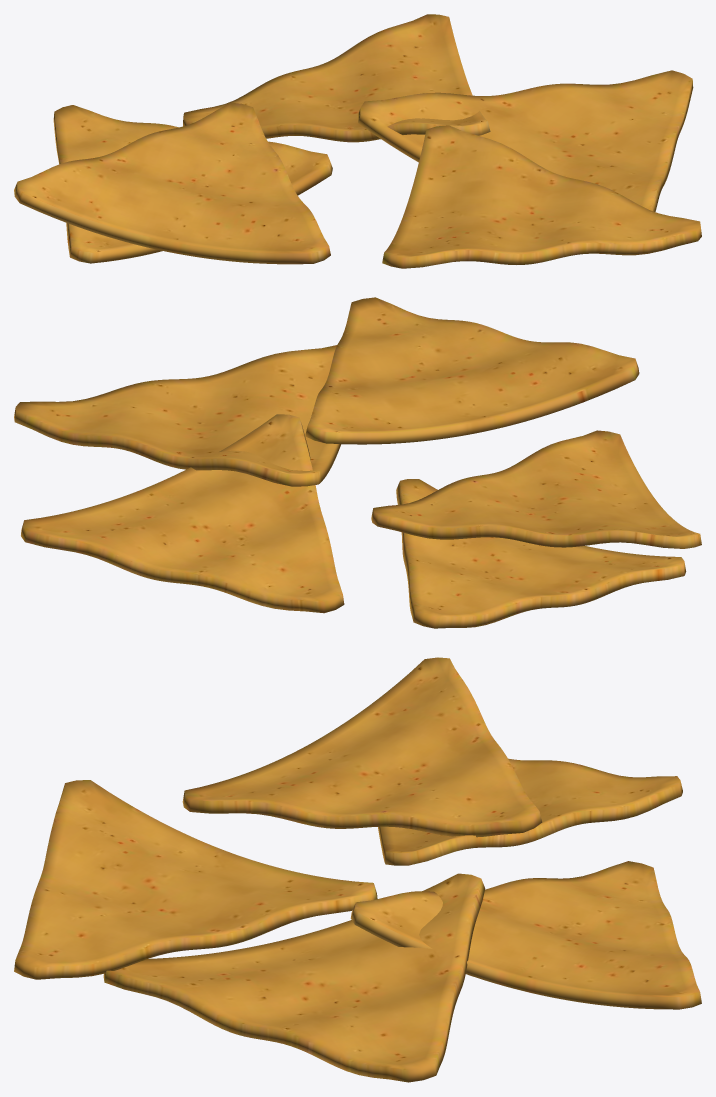
Rendered from crunch_nachos.glb.
3 renders of one model, top to bottom at view 1: azimuth 30°, elevation 25°; view 2: azimuth 150°, elevation 25°; view 3: azimuth 270°, elevation 25°, orthographic. The views are drawn at different scales.
Parts seen in each view (by area): view 1: EX_crunch_nachos_joined; view 2: EX_crunch_nachos_joined; view 3: EX_crunch_nachos_joined.
Part boxes in pixels (bbox=[...]): EX_crunch_nachos_joined: bbox=[14, 14, 701, 268]; EX_crunch_nachos_joined: bbox=[14, 297, 701, 628]; EX_crunch_nachos_joined: bbox=[14, 657, 701, 1082].
Bounding box in the file's own units: 0.0894 × 0.00946 × 0.0706.
1 material, 1 textured.
